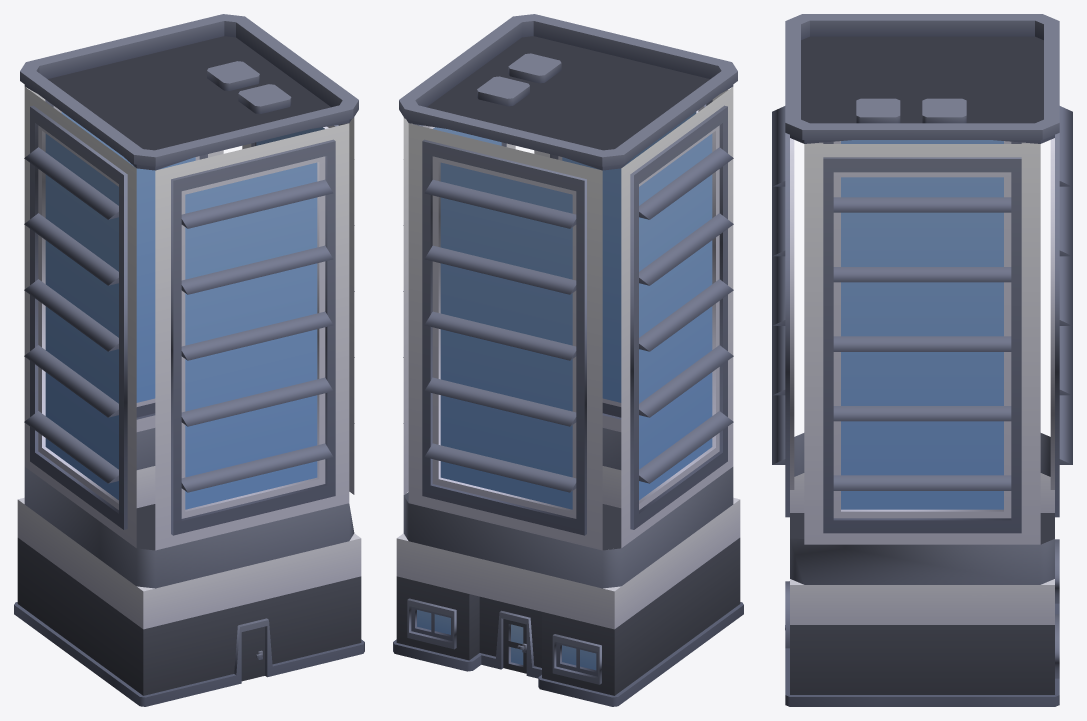
Rendered from tower-a.glb.
3 renders of one model, left to right at view 1: azimuth 30°, elevation 25°; view 2: azimuth 150°, elevation 25°; view 3: azimuth 270°, elevation 25°, orthographic. The views are drawn at different scales.
Visible parts, largest first — view 1: building-skyscraper-a; view 2: building-skyscraper-a; view 3: building-skyscraper-a.
Part boxes in pixels (box(x1,y1,x2,y2)): building-skyscraper-a: box(14, 14, 364, 706); building-skyscraper-a: box(393, 14, 743, 706); building-skyscraper-a: box(772, 14, 1072, 706).
Size of the model in its own units: 1.36 by 2.88 by 1.36.
Materials: 1 (1 with a texture image).
